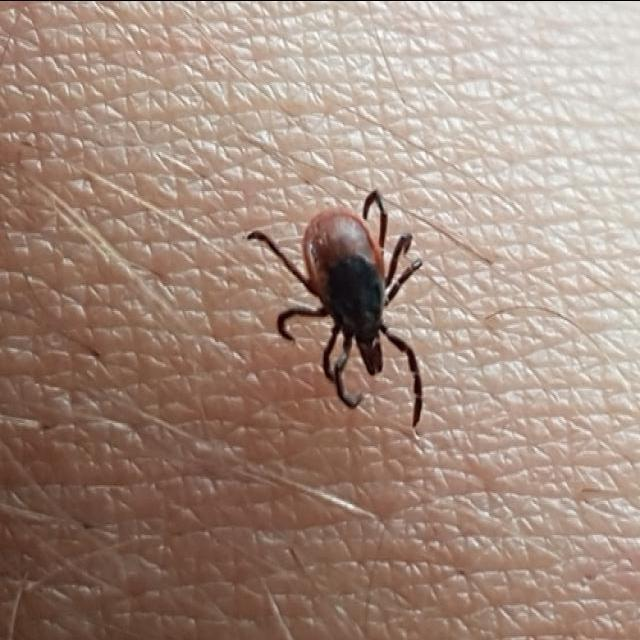Ixodes Ricinus-F: (247, 188, 422, 425)
